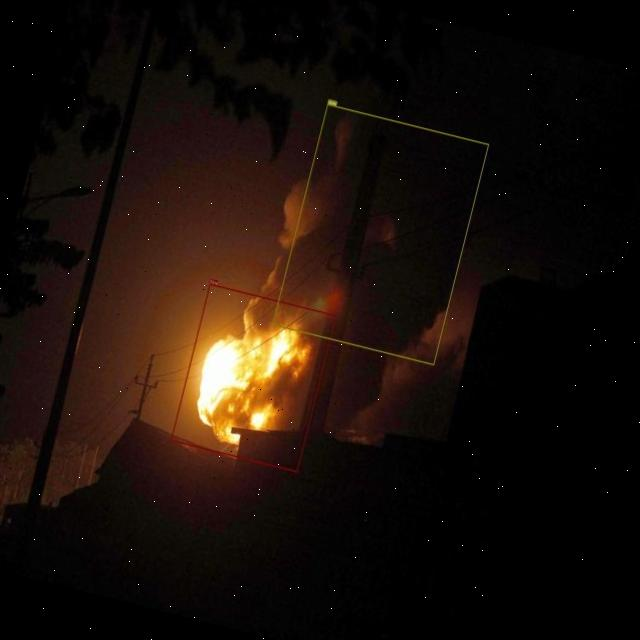fire: (170, 283, 336, 472)
smoke: (272, 103, 488, 365)
